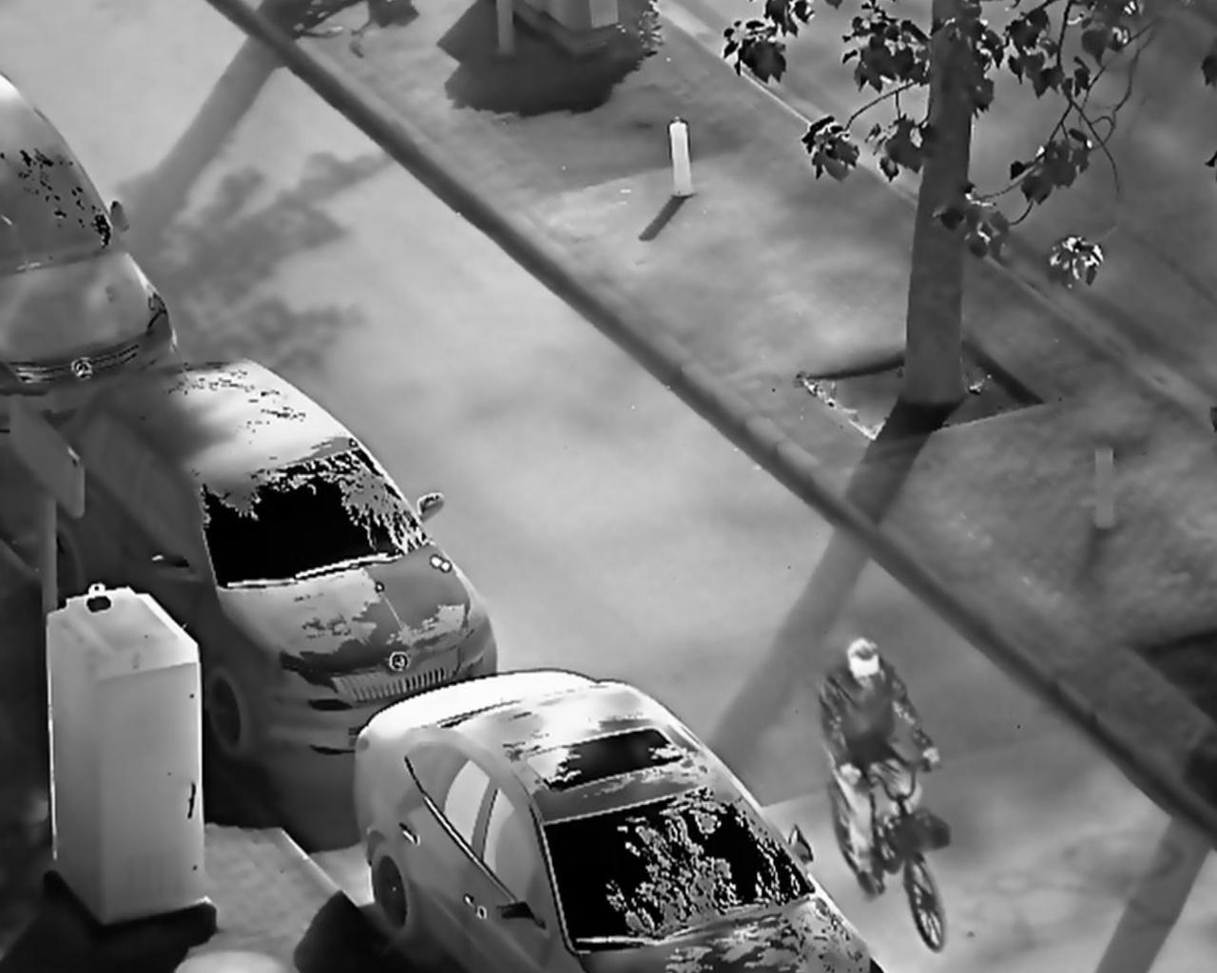person: (817, 637, 945, 900)
